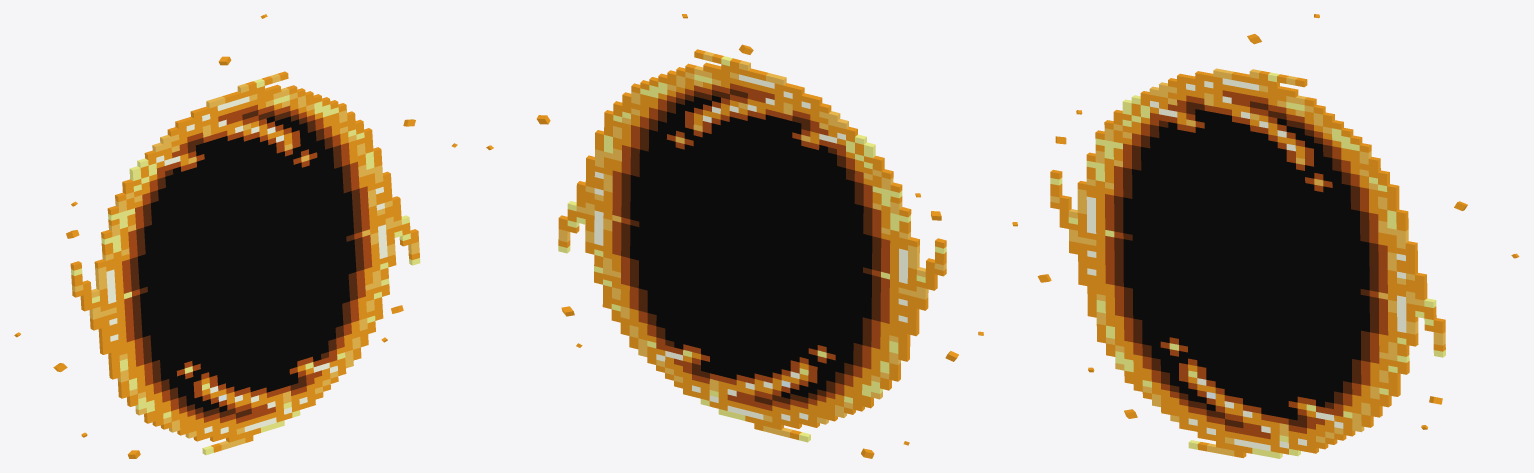
Rendered from best_portal.glb.
3 renders of one model, left to right at view 1: azimuth 30°, elevation 25°; view 2: azimuth 150°, elevation 25°; view 3: azimuth 330°, elevation 25°, orthographic. The views are drawn at different scales.
Visible parts, largest first — view 1: Object_4; view 2: Object_4; view 3: Object_4.
Part boxes in pixels (x1,y1,x2,y2): Object_4: [14, 14, 457, 458]; Object_4: [486, 14, 983, 458]; Object_4: [1012, 14, 1519, 458].
Size of the model in its own units: 8.9 by 7.46 by 1.06.
1 material, 1 textured.
